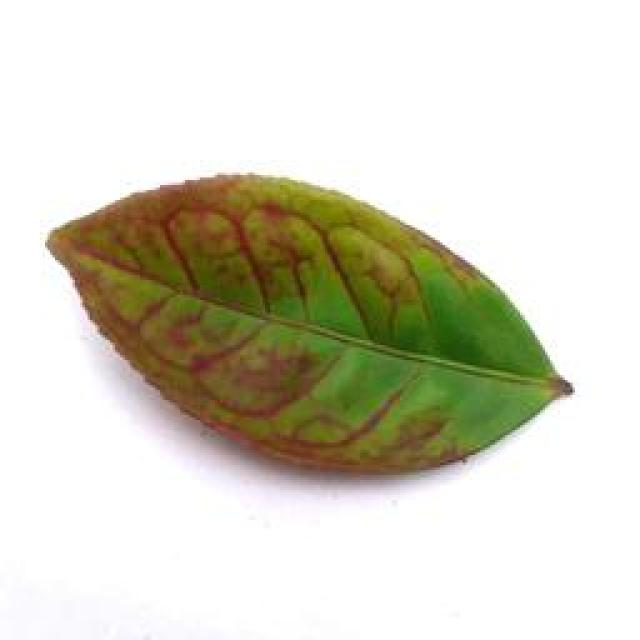Red Leaf Spot: (29, 143, 616, 488)
